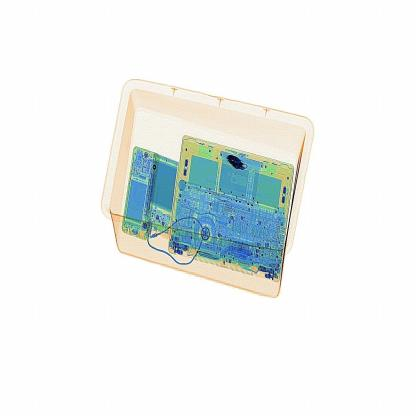scissors: (224, 146, 261, 182)
